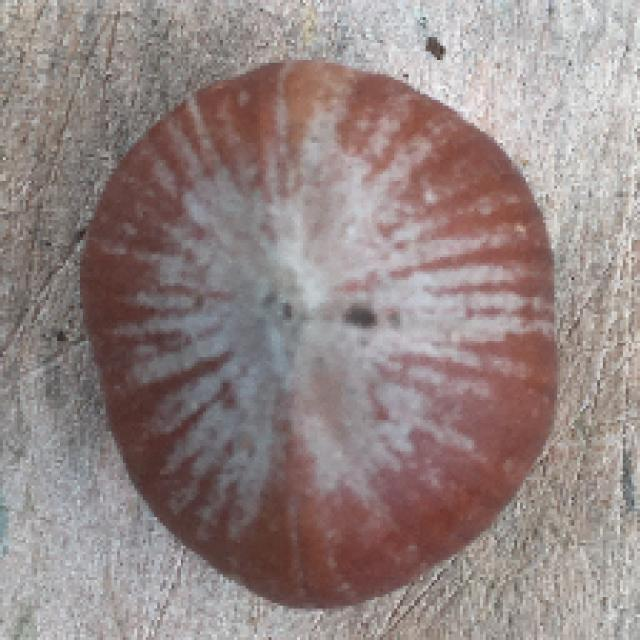damagedHazelnut: (68, 51, 570, 602)
